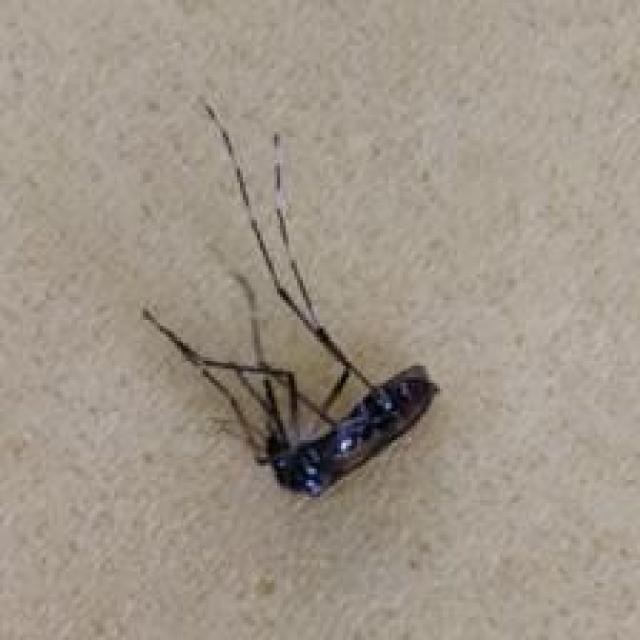Aedes albopictus: (140, 97, 440, 500)
